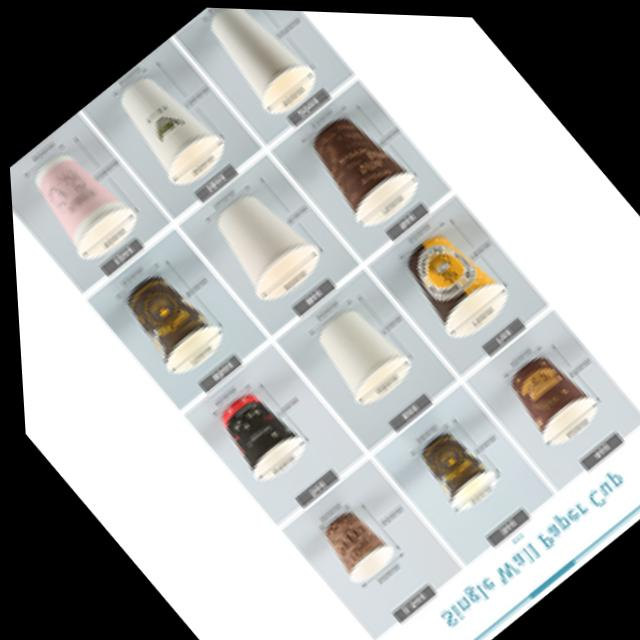paper_cups: (292, 96, 430, 237), (198, 177, 332, 312), (14, 139, 146, 272), (104, 60, 233, 192), (387, 215, 516, 345), (106, 258, 230, 384), (299, 291, 422, 415), (195, 6, 326, 122), (489, 336, 605, 453), (202, 379, 311, 488), (399, 414, 505, 519), (307, 499, 396, 589)
